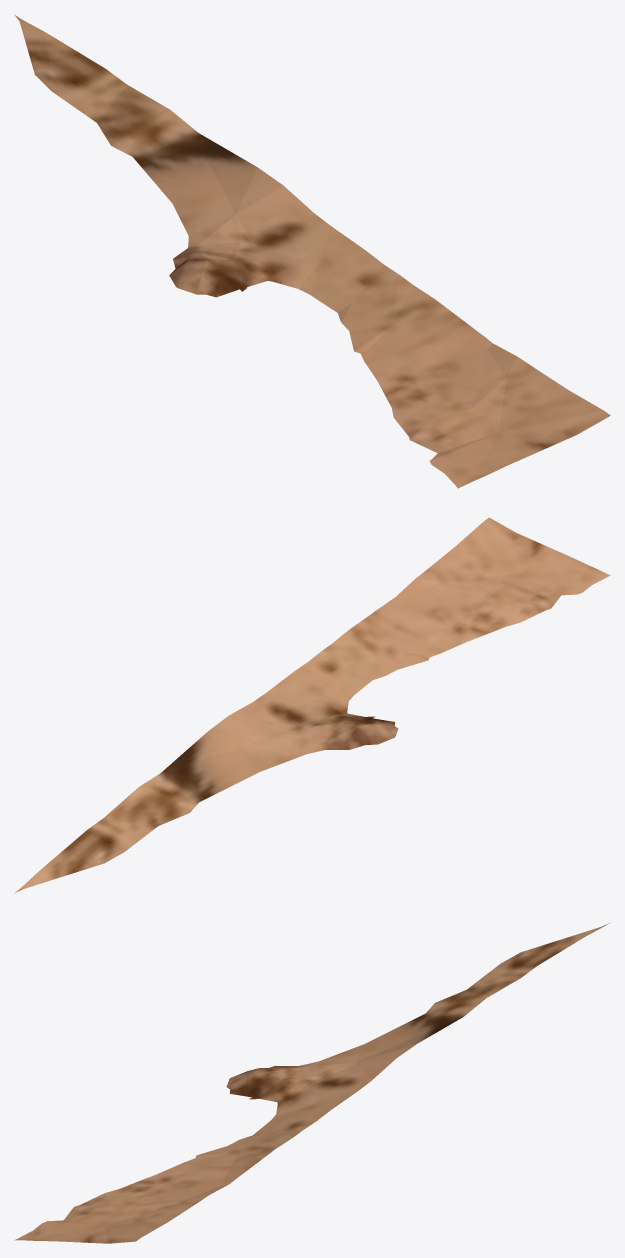
3 views of the same model, one above another, from view 1: azimuth 30°, elevation 25°; view 2: azimuth 150°, elevation 25°; view 3: azimuth 330°, elevation 25° (orthographic). The views are drawn at different scales.
Bounding box in the file's own units: 0.2386 × 0.0515 × 1.56.
1 material, 1 textured.
